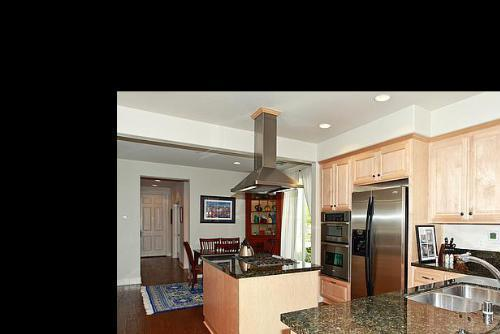Lavaplatos: (406, 253, 500, 320)
